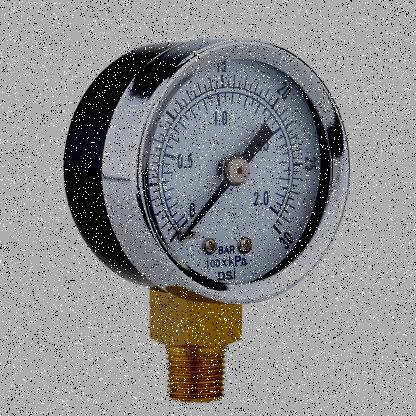needle: (180, 178, 232, 243)
